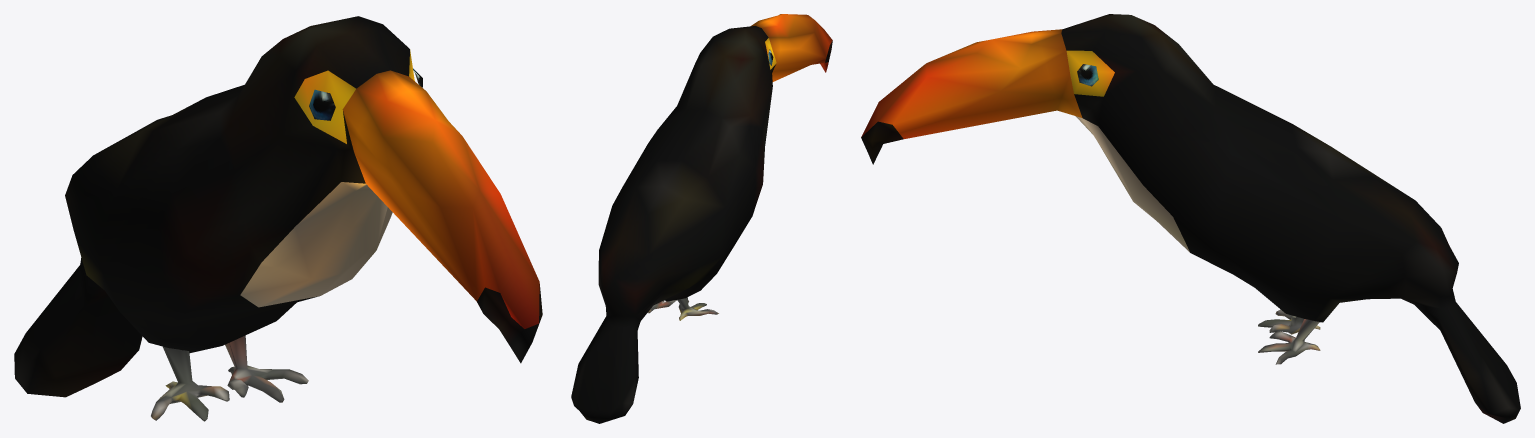
The model's file is a928eba8-0ea6-41e6-a762-e93c15aef376.glb.
3 views of the same model, side by side, from view 1: azimuth 30°, elevation 25°; view 2: azimuth 150°, elevation 25°; view 3: azimuth 270°, elevation 25° (orthographic). The views are drawn at different scales.
Parts seen in each view (by area): view 1: Toucan; view 2: Toucan; view 3: Toucan.
Boxes of the visible parts, x1,y1,x2,y2 form: Toucan: (14,16,542,421); Toucan: (571,14,832,423); Toucan: (861,14,1520,423).
Size of what is drawn, in the model's own units: 0.3536 by 0.8719 by 1.31.
1 material, 1 textured.
